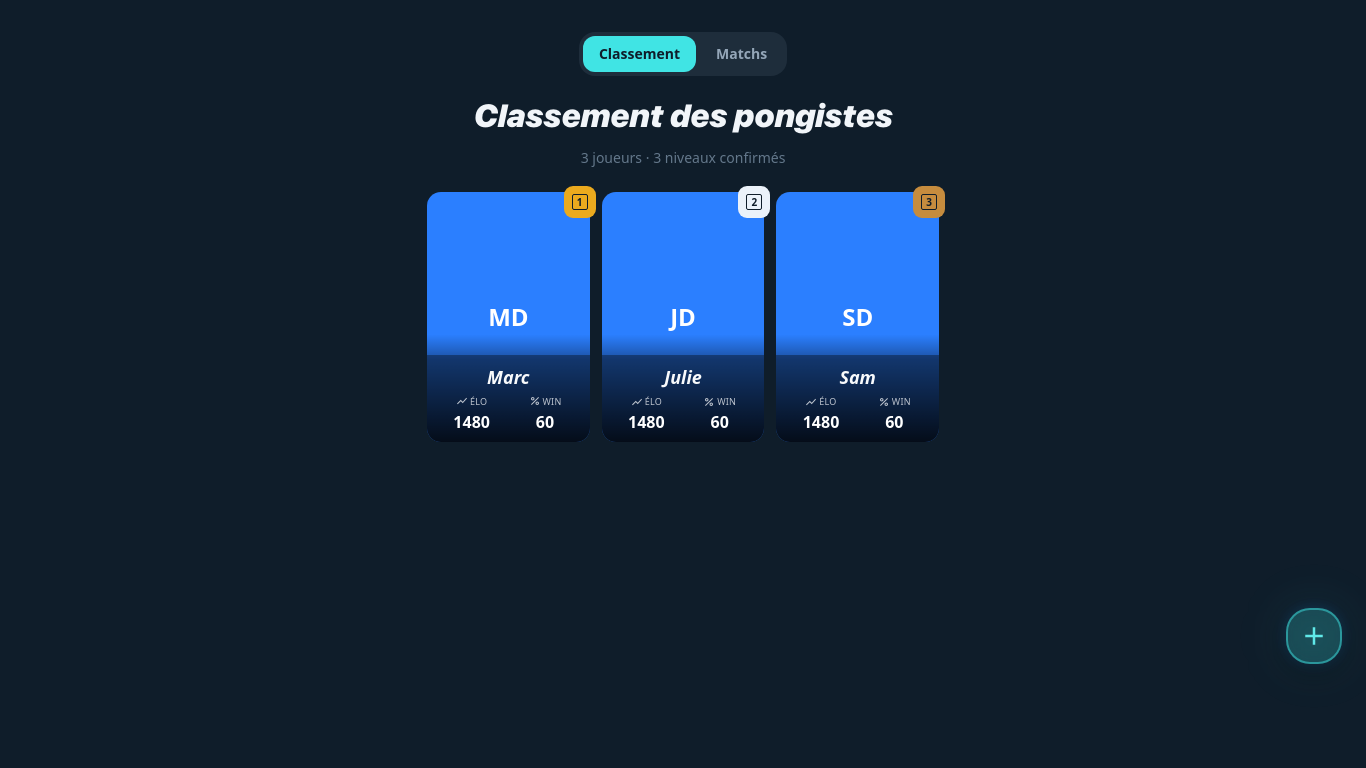
Scenario: PingpongPage › the detail sheet › opens on the player whose podium card was tapped
This screenshot has width=1366, height=768.
Click the button with test id "pingpong-podium-card" showing "SD 3 Sam ÉLO 1480 WIN 60": (858, 317) [776, 192, 939, 442]
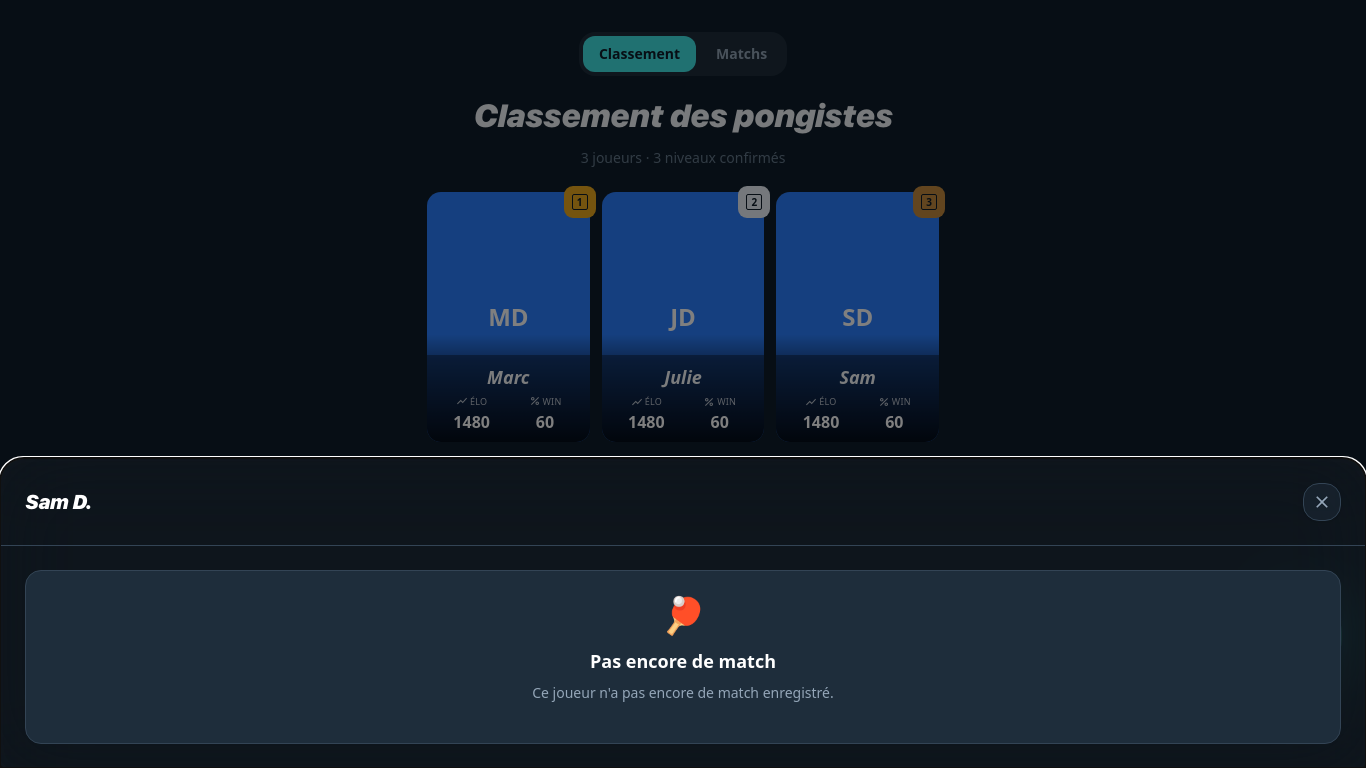
Expected: the dialog shows "Sam", [25, 490, 92, 514]
